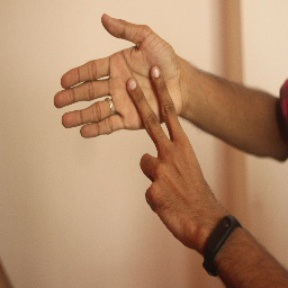N: (51, 11, 202, 186)
